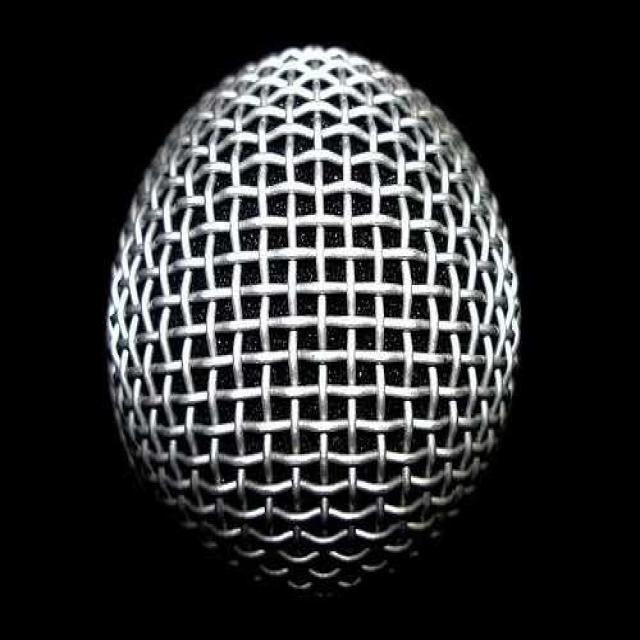microphone: (111, 56, 517, 594)
